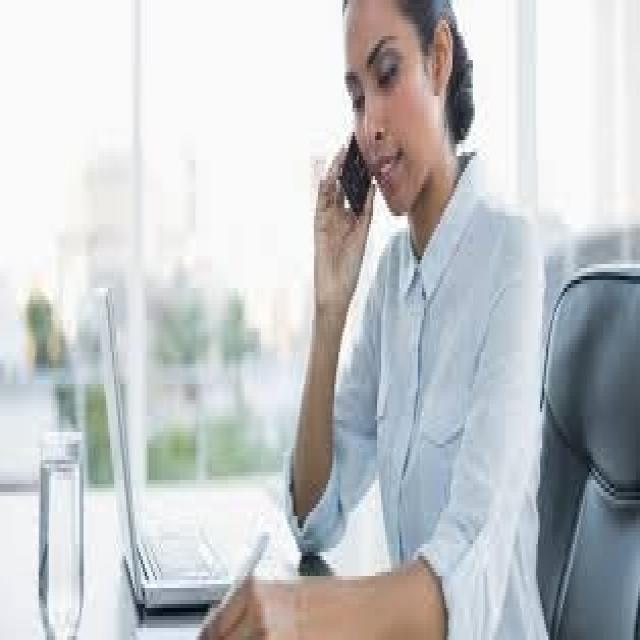phone: (312, 60, 383, 292)
